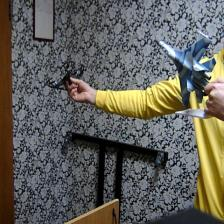drone: (38, 54, 92, 94)
